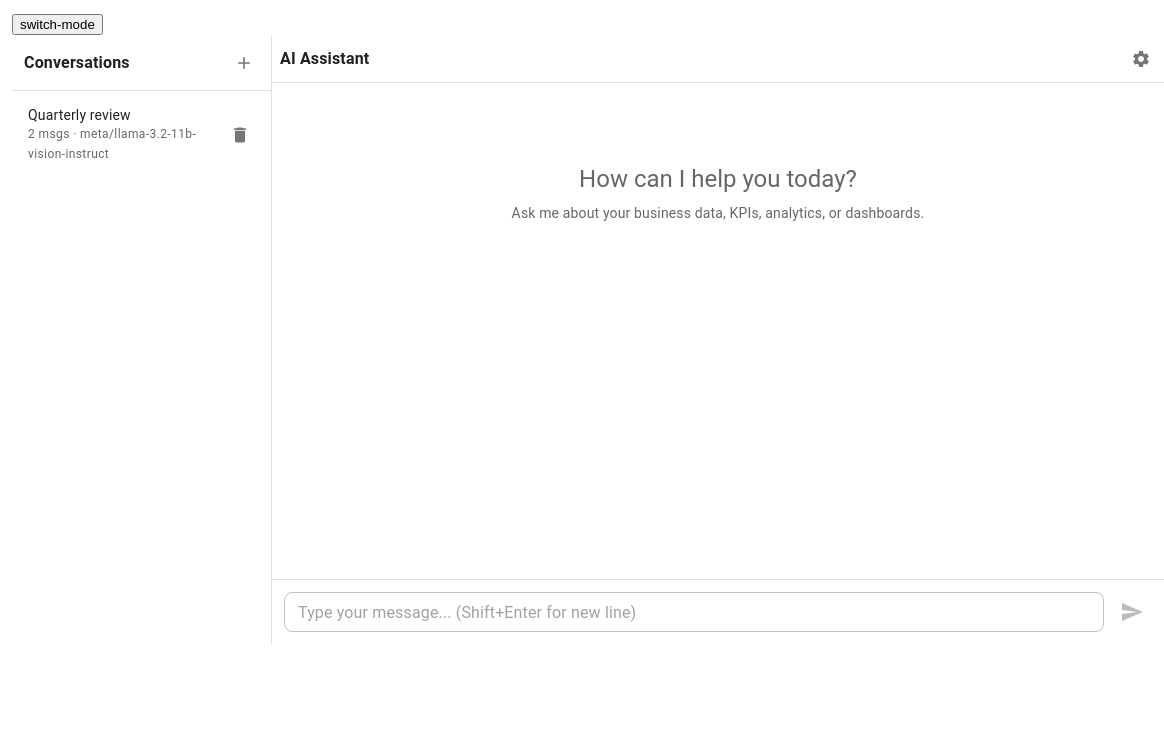
Test: AI chat light/dark mode contrast › renders the assistant bubble readable in light mode
What coordinates should you click on to do the following:
click the text "Quarterly review"
I would click on:
 (79, 115)
Its box is [28, 107, 131, 123].
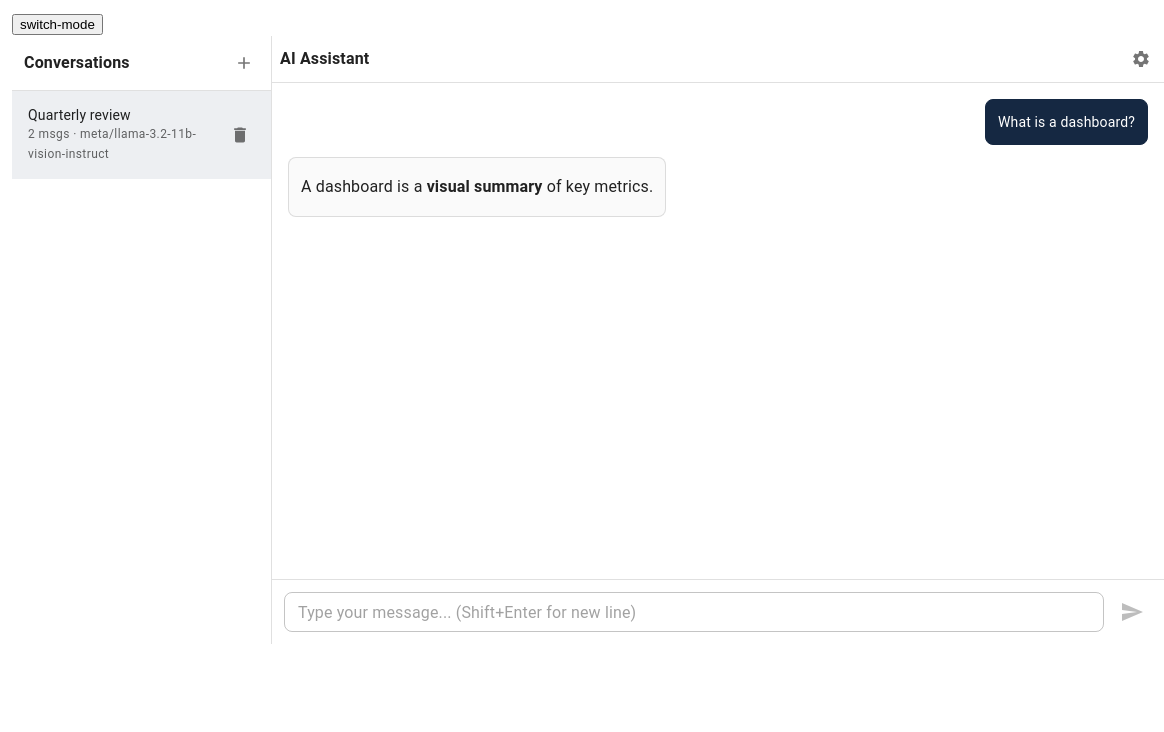
Result: the text "A dashboard is a visual summary of key metrics." is shown at [301, 174, 653, 200]
